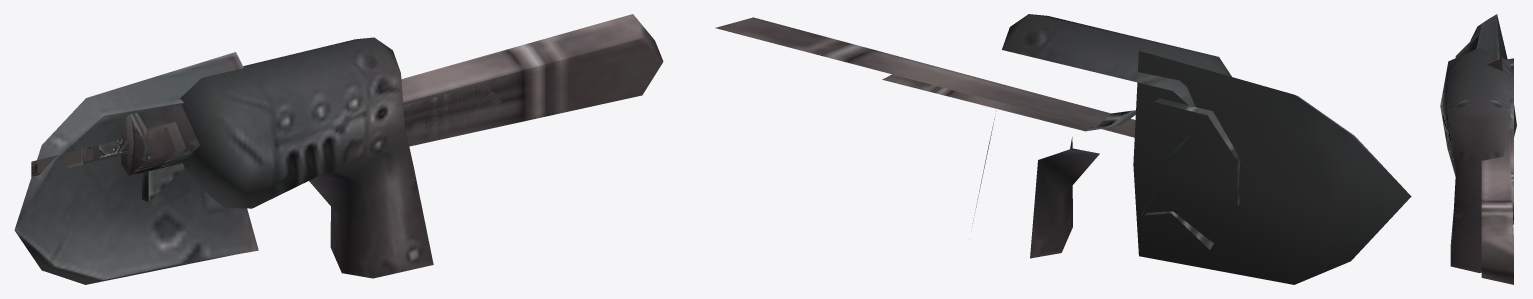
Rendered from tools_floor.glb.
The picture shows the model from 3 angles, left to right: view 1: azimuth 30°, elevation 25°; view 2: azimuth 150°, elevation 25°; view 3: azimuth 270°, elevation 25°; orthographic projection. The views are drawn at different scales.
Parts seen in each view (by area): view 1: gremlin.tools_floor-MeshSets[tools_ground_shovel].Mesh[0], gremlin.tools_floor-MeshSets[tools_ground_drillgun].Mesh[0], gremlin.tools_floor-MeshSets[tools_ground_wrench].Mesh[0]; view 2: gremlin.tools_floor-MeshSets[tools_ground_shovel].Mesh[0], gremlin.tools_floor-MeshSets[tools_ground_drillgun].Mesh[0], gremlin.tools_floor-MeshSets[tools_ground_wrench].Mesh[0]; view 3: gremlin.tools_floor-MeshSets[tools_ground_drillgun].Mesh[0], gremlin.tools_floor-MeshSets[tools_ground_shovel].Mesh[0], gremlin.tools_floor-MeshSets[tools_ground_wrench].Mesh[0].
Part boxes in pixels (<box>): gremlin.tools_floor-MeshSets[tools_ground_shovel].Mesh[0]: <box>14,14,663,284</box>; gremlin.tools_floor-MeshSets[tools_ground_drillgun].Mesh[0]: <box>31,37,433,278</box>; gremlin.tools_floor-MeshSets[tools_ground_wrench].Mesh[0]: <box>142,85,501,201</box>; gremlin.tools_floor-MeshSets[tools_ground_shovel].Mesh[0]: <box>715,17,1411,284</box>; gremlin.tools_floor-MeshSets[tools_ground_drillgun].Mesh[0]: <box>972,14,1231,258</box>; gremlin.tools_floor-MeshSets[tools_ground_wrench].Mesh[0]: <box>882,74,1240,249</box>; gremlin.tools_floor-MeshSets[tools_ground_drillgun].Mesh[0]: <box>1440,33,1510,272</box>; gremlin.tools_floor-MeshSets[tools_ground_shovel].Mesh[0]: <box>1470,14,1516,284</box>; gremlin.tools_floor-MeshSets[tools_ground_wrench].Mesh[0]: <box>1507,58,1513,224</box>.
Size of the model in its own units: 1.84 by 0.6054 by 0.2724.
Materials: 1 (1 with a texture image).
